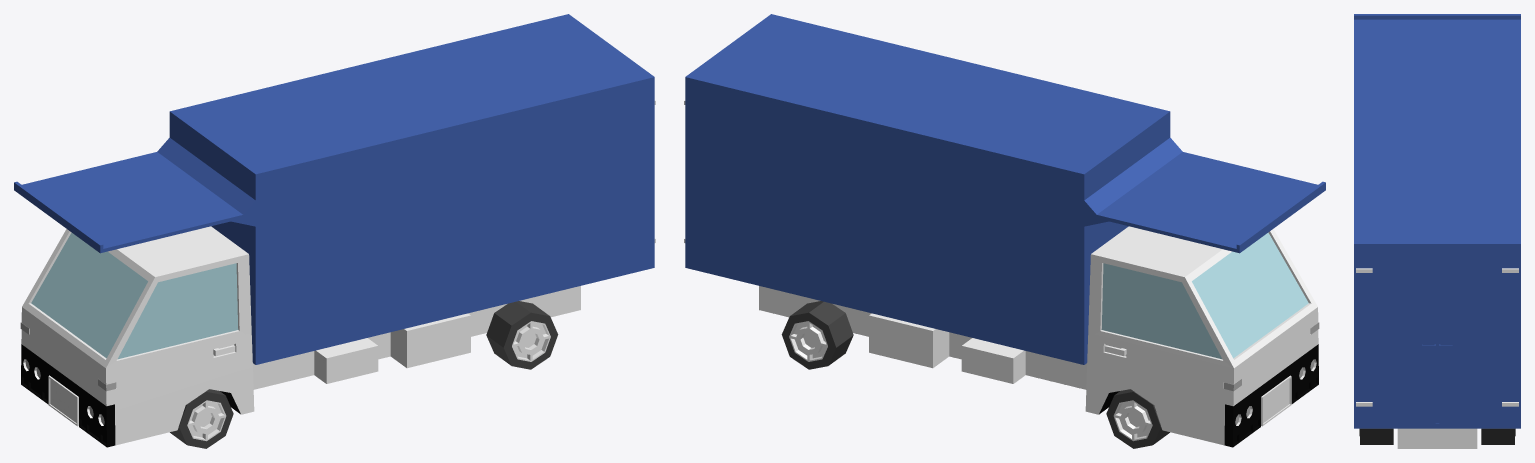
Rendered from truck.glb.
The picture shows the model from 3 angles, left to right: view 1: azimuth 30°, elevation 25°; view 2: azimuth 150°, elevation 25°; view 3: azimuth 270°, elevation 25°; orthographic projection. The views are drawn at different scales.
Parts seen in each view (by area): view 1: Truck; view 2: Truck; view 3: Truck.
Part boxes in pixels (x1,y1,x2,y2): Truck: [14, 14, 655, 448]; Truck: [684, 14, 1325, 448]; Truck: [1354, 14, 1520, 448].
Bounding box in the file's own units: 2.2 × 1 × 0.5906.
